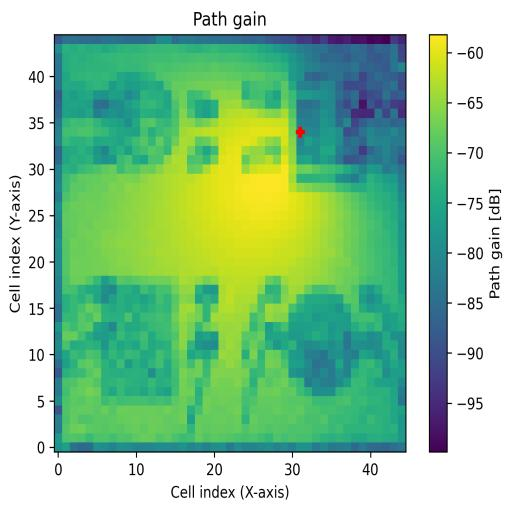Concrete: (297, 68, 367, 184)
Glass: (109, 74, 178, 173)
Metal: (288, 284, 359, 396)
Wood: (101, 277, 180, 407)
